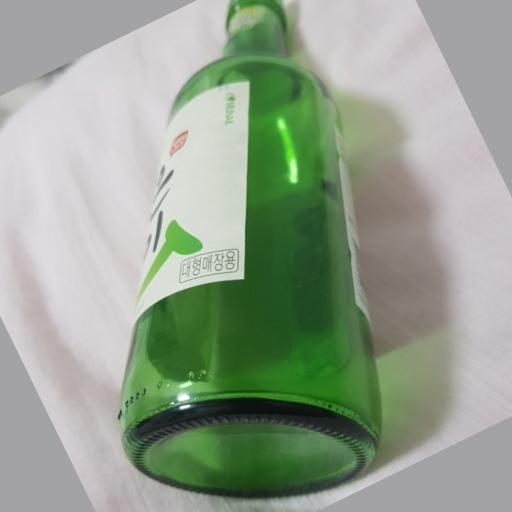Glass_0: (116, 1, 382, 494)
